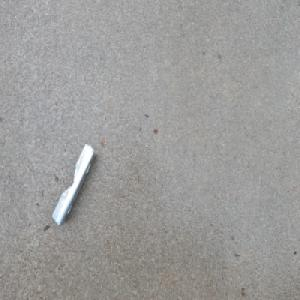ClampPart: (51, 142, 97, 226)
